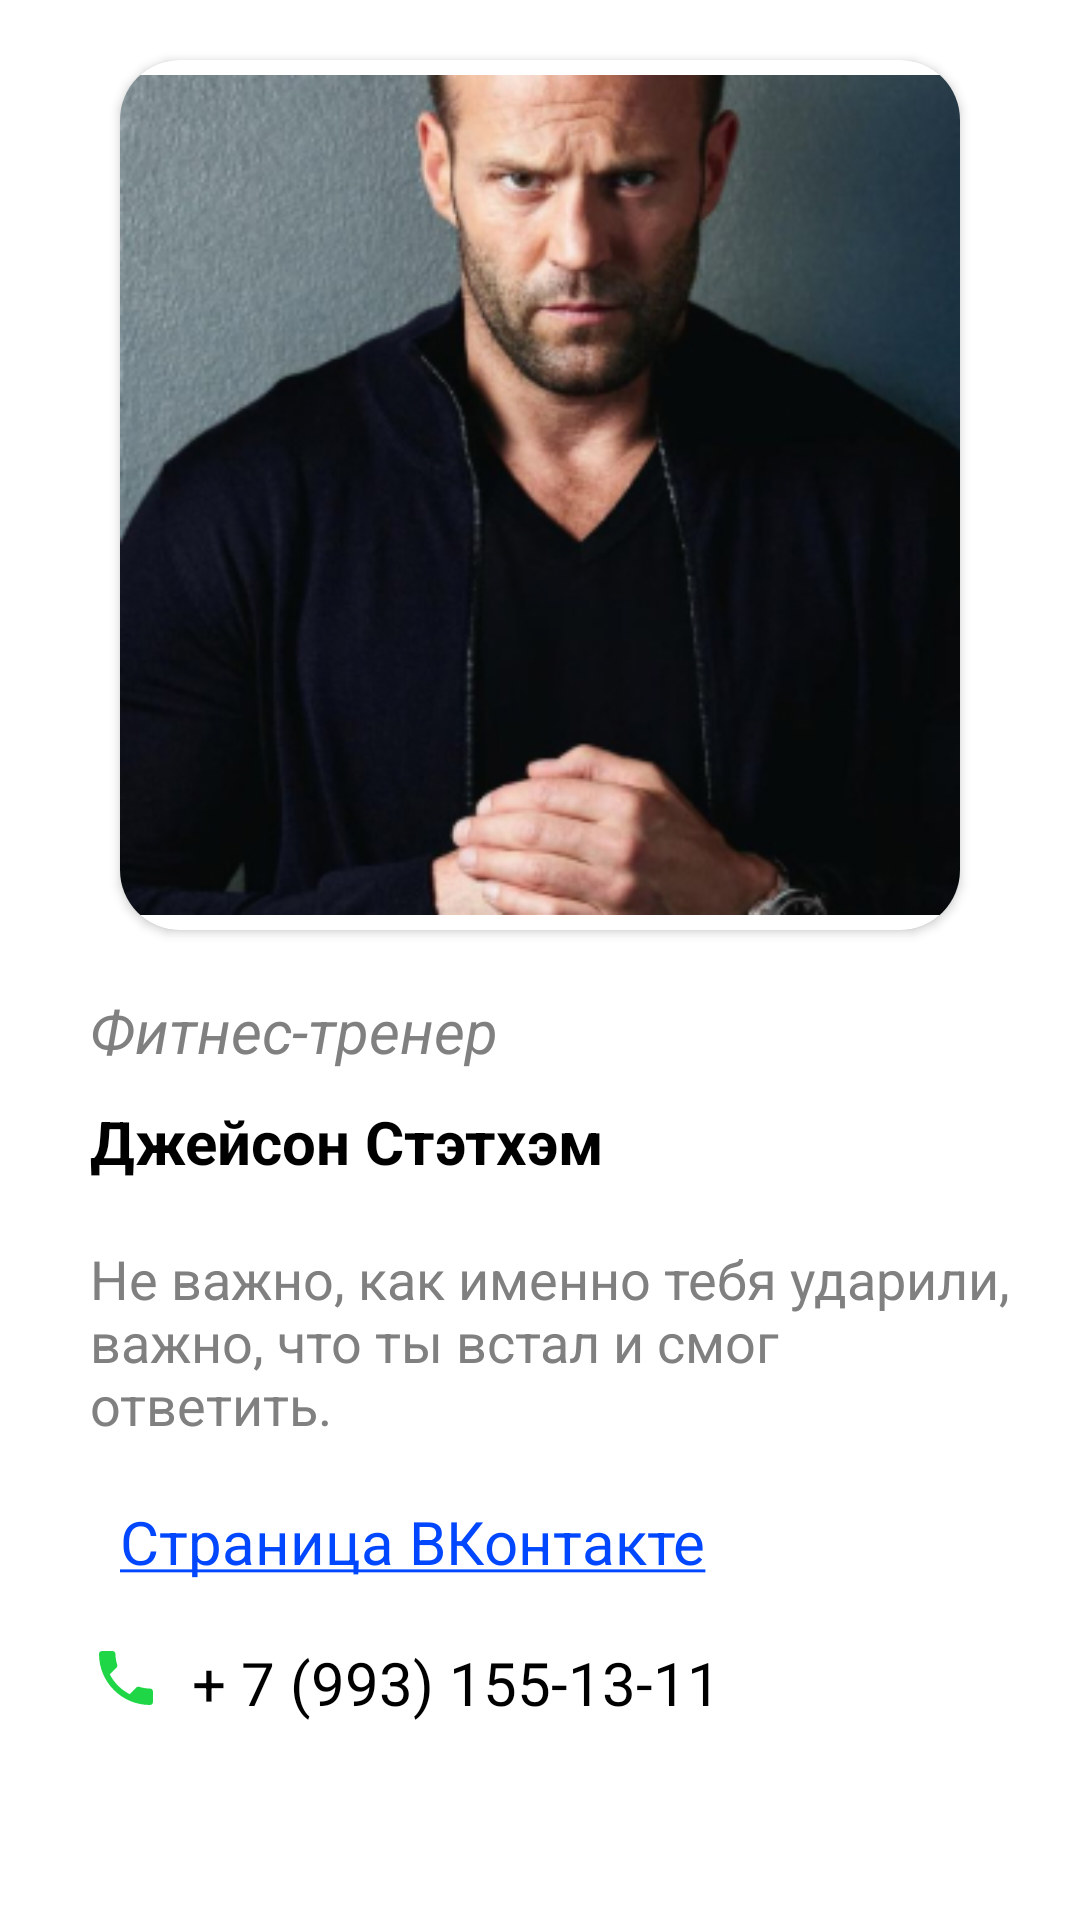

Icons on this 1080w x 1920h Android screen, each with the point to tap as (x,y):
phone: (126,1678)
